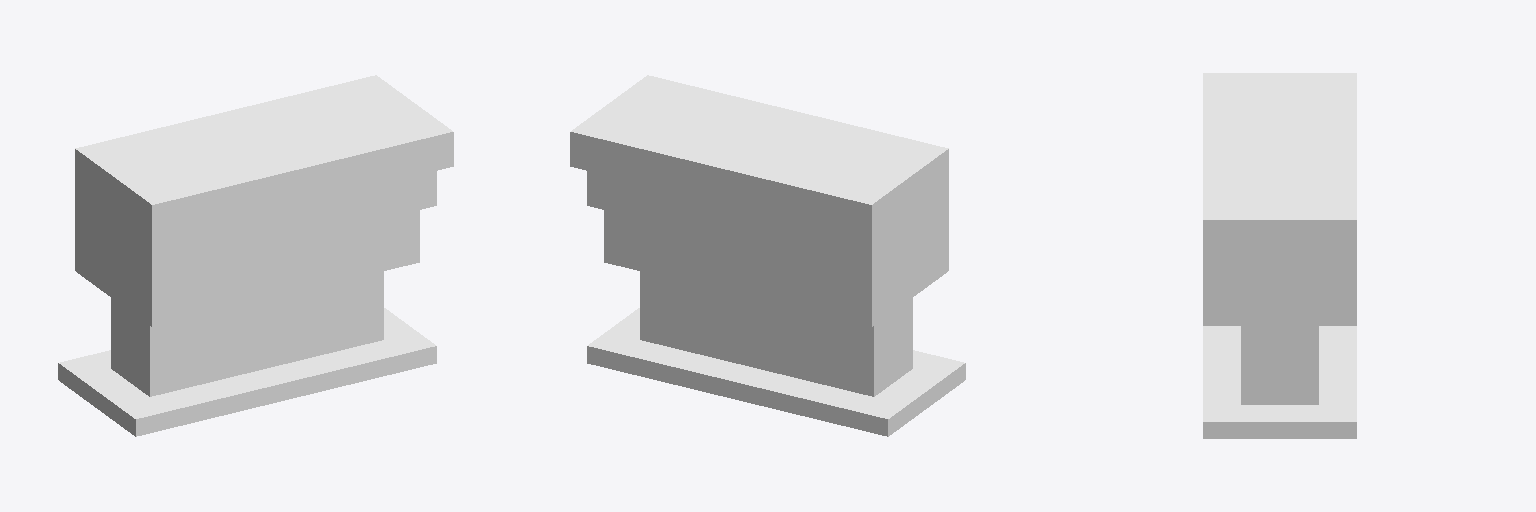
The model's file is Anvil-1.obj.
3 views of the same model, side by side, from view 1: azimuth 30°, elevation 25°; view 2: azimuth 150°, elevation 25°; view 3: azimuth 270°, elevation 25° (orthographic).
Parts seen in each view (by area): view 1: object 1; view 2: object 1; view 3: object 1.
Boxes of the visible parts, x1,y1,x2,y2 form: object 1: [58, 75, 453, 436]; object 1: [570, 75, 965, 436]; object 1: [1203, 73, 1356, 438].
Size of the model in its own units: 1.9 by 1.3 by 0.8.